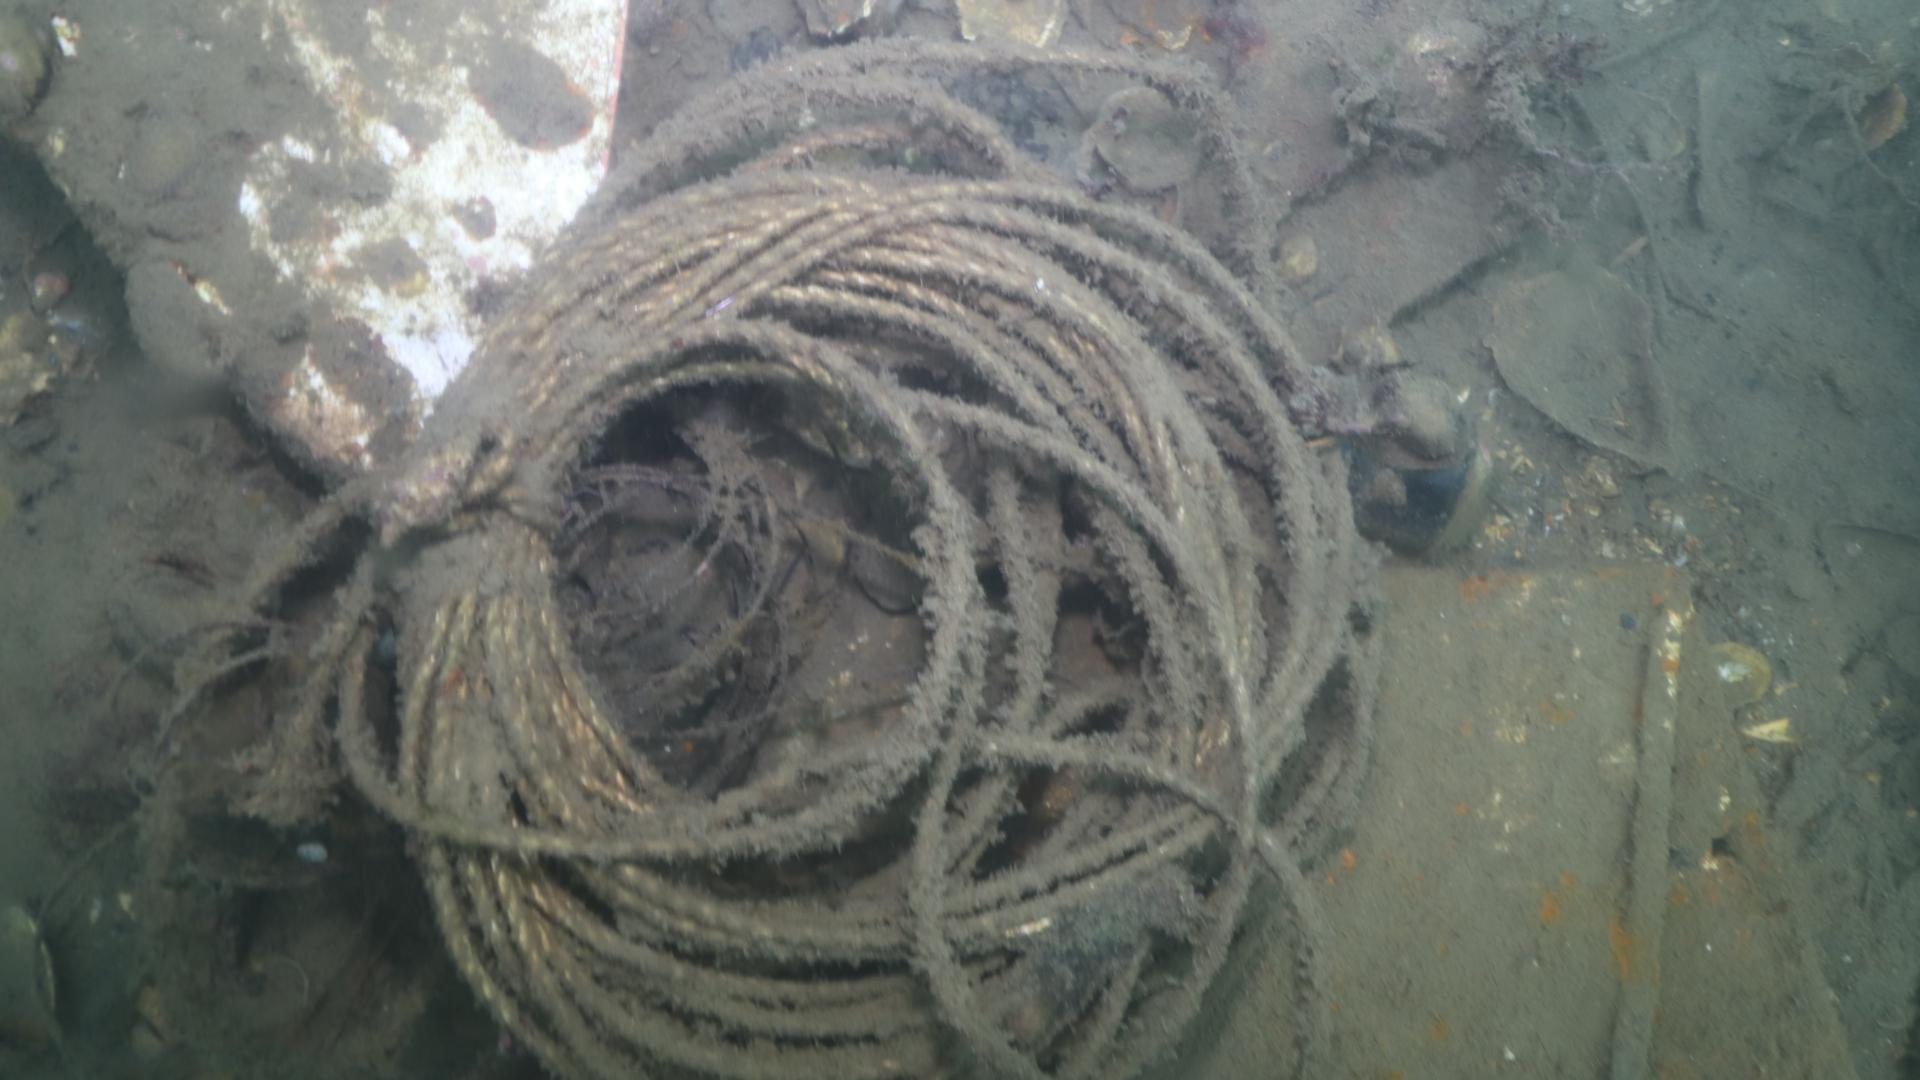bundle of ropes: (154, 30, 1393, 1080)
